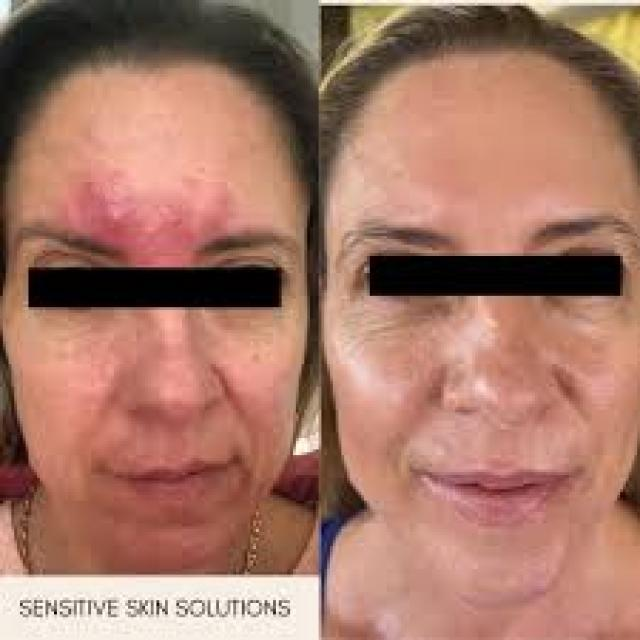Rosacea: (63, 166, 237, 246)
